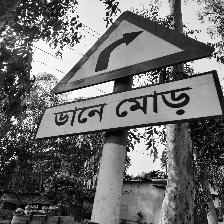Right-turn: (40, 10, 223, 140)
